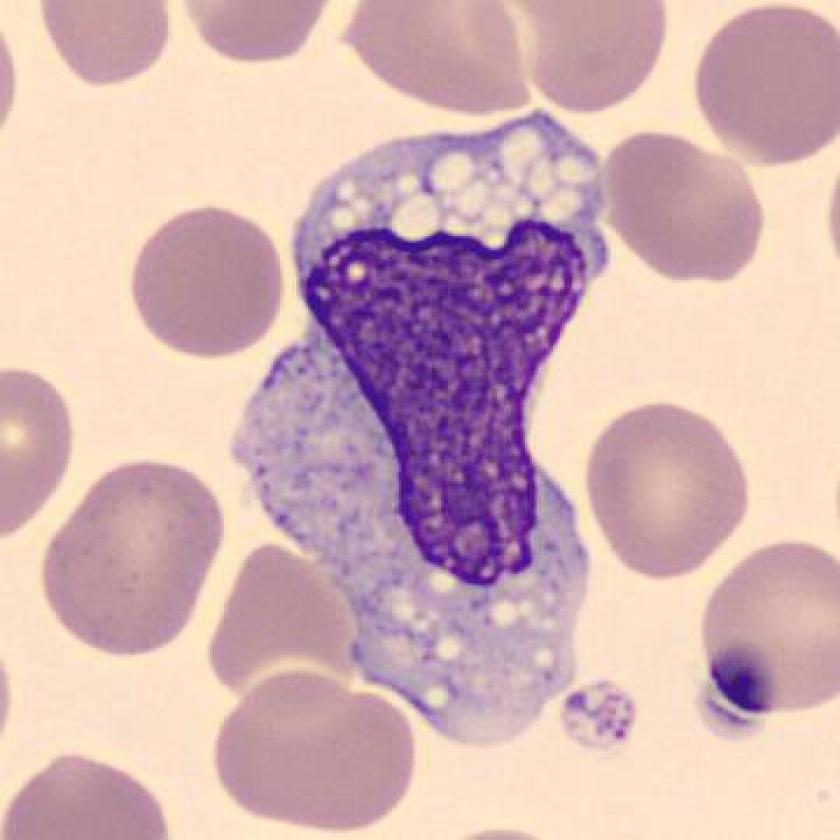monocyte: (216, 100, 664, 767)
